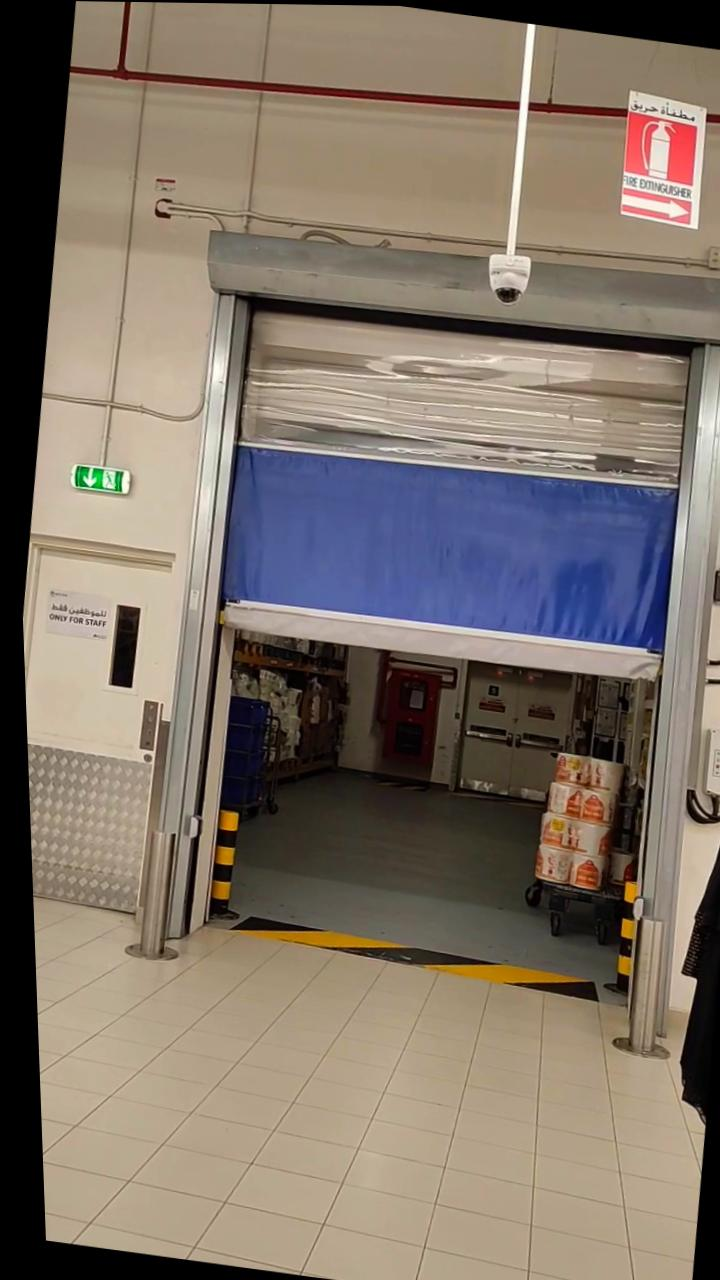Strip: (228, 906, 591, 1001)
